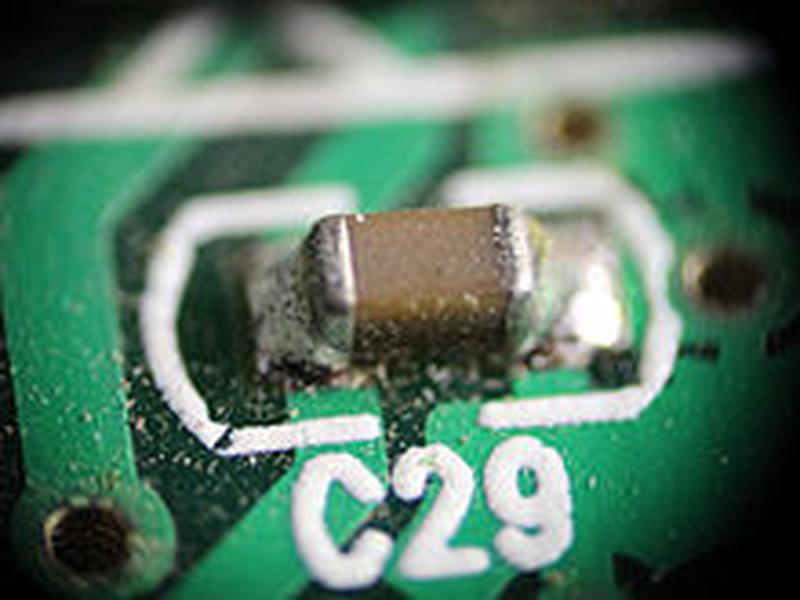SMD capacitor: (268, 187, 561, 371)
